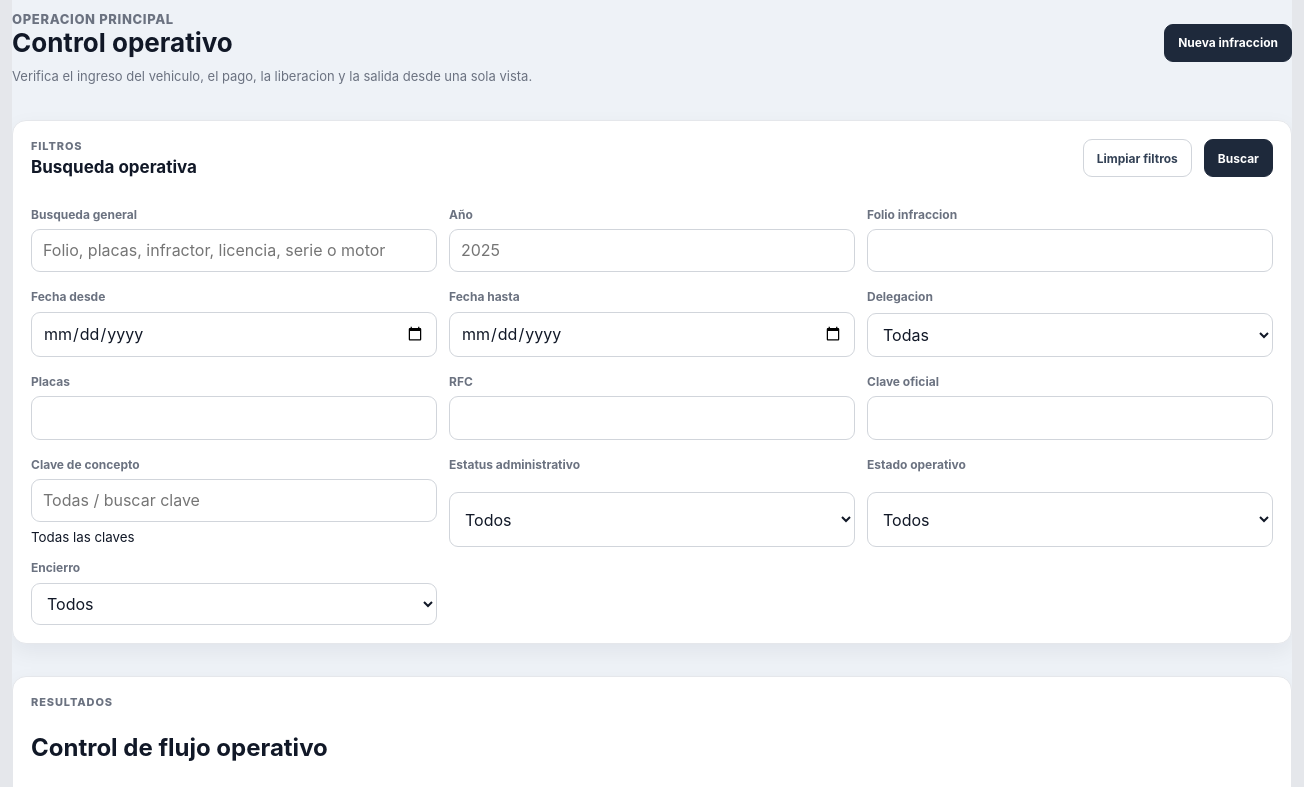
Test case: InfraccionesListPage validacion de rango de fechas › Q3.1-05 bloquea un rango invertido mediante Buscar
The image size is (1304, 787).
In the date field labelled "Fecha desde": (234, 334) [31,312,437,357], type "2026-08-24"
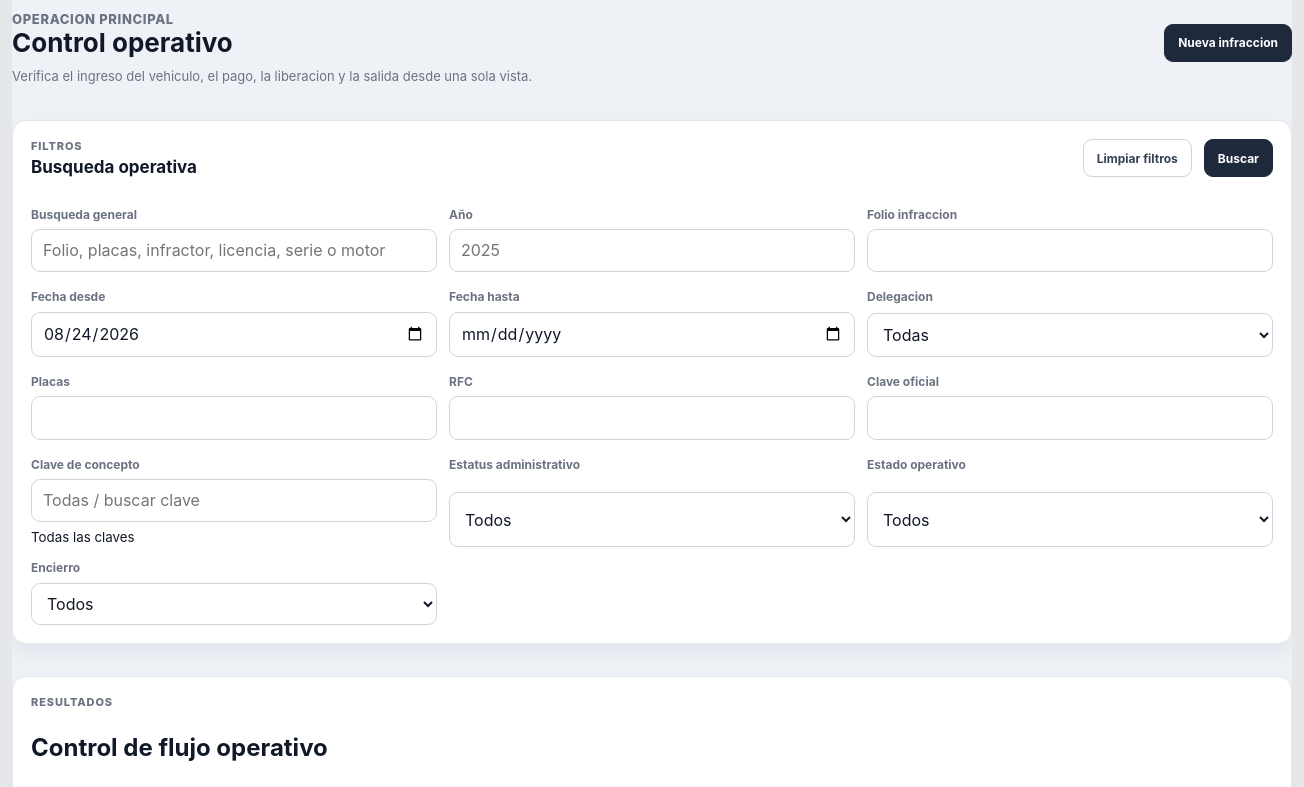
In the date field labelled "Fecha hasta": (652, 334) [449,312,855,357], type "2026-08-20"
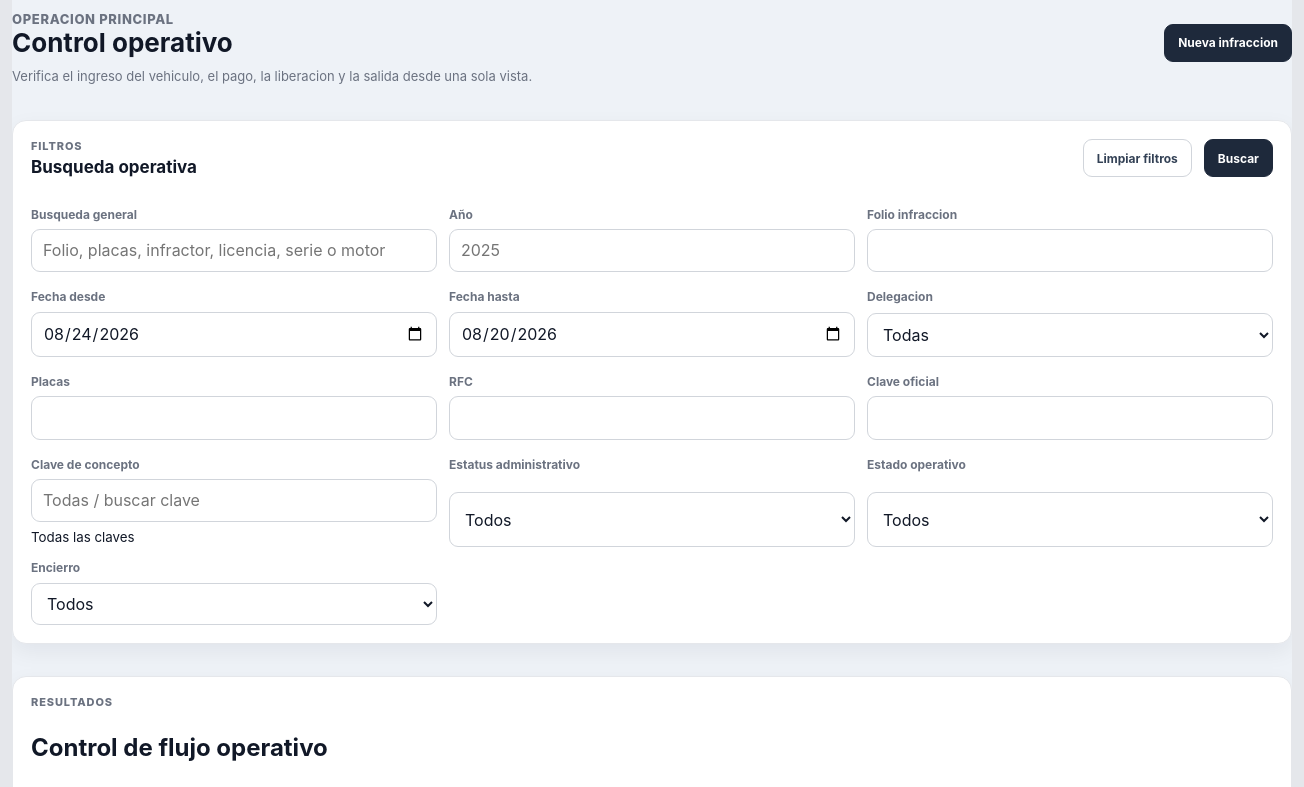
Click the button "Buscar": (1238, 158) [1204,139,1273,177]
(page scrolled)
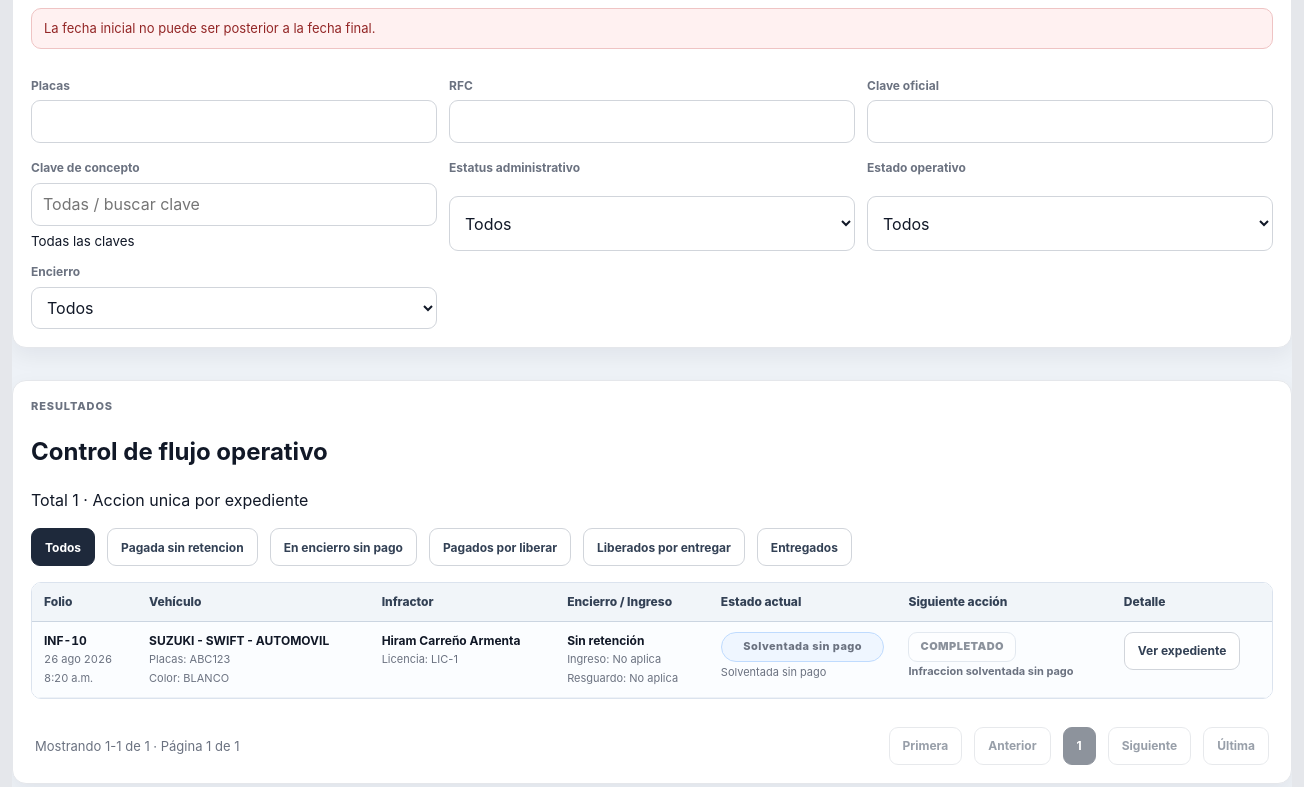
Expected: the text "INF-10" is shown, [44,632,87,649]
Expected: the text "La fecha inicial no puede ser posterior a la fecha final." is shown, [31,8,1273,49]
